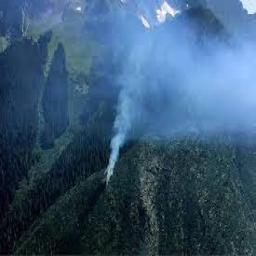Low smoke: (87, 0, 256, 183)
